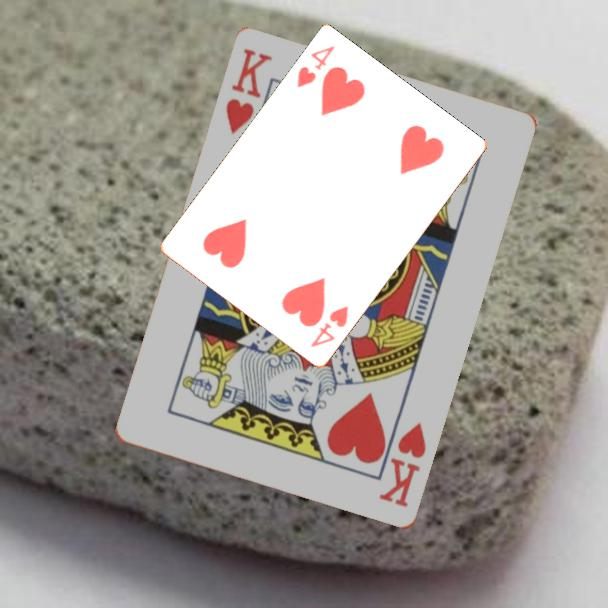h04: (293, 42, 338, 91), (307, 303, 351, 351)
h13: (375, 419, 430, 511), (222, 45, 276, 138)
